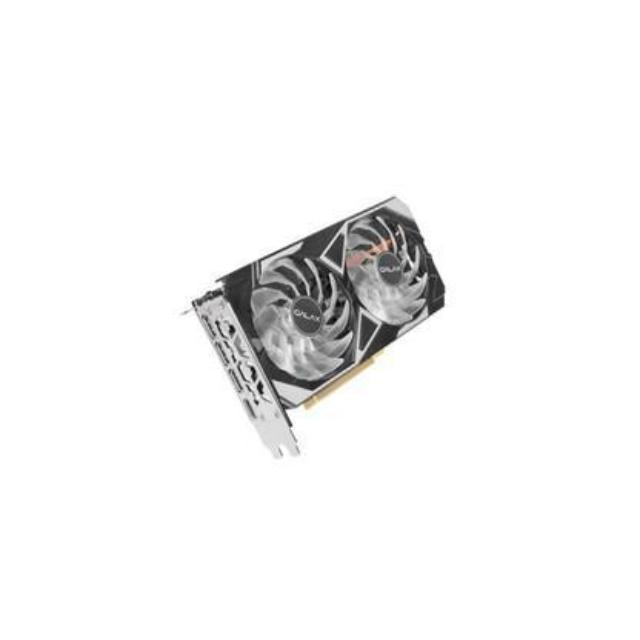GPU: (195, 187, 450, 413)
